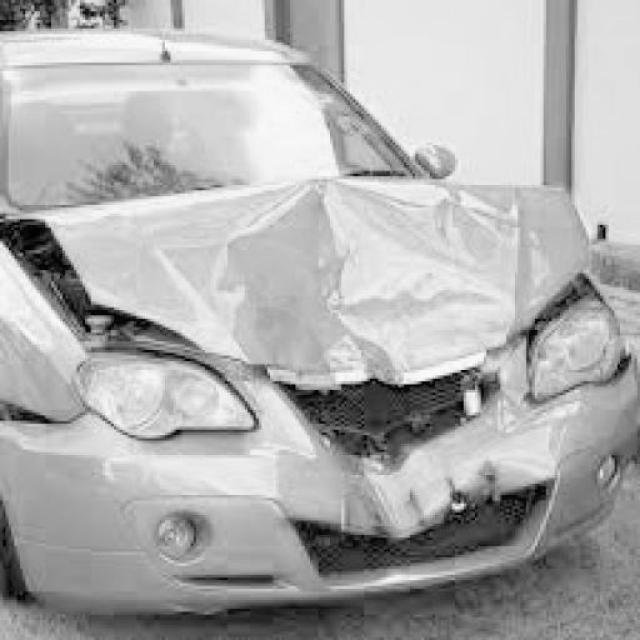car damage: (0, 0, 484, 45)
